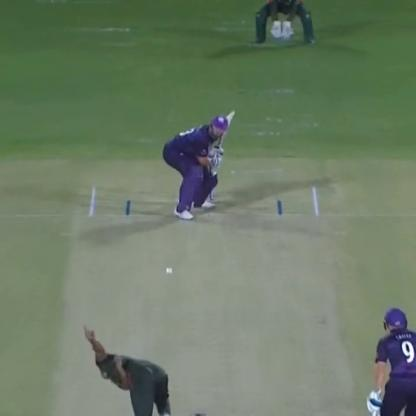ball: (160, 264, 176, 277)
bat: (210, 103, 240, 158)
pitch: (54, 190, 362, 414)
